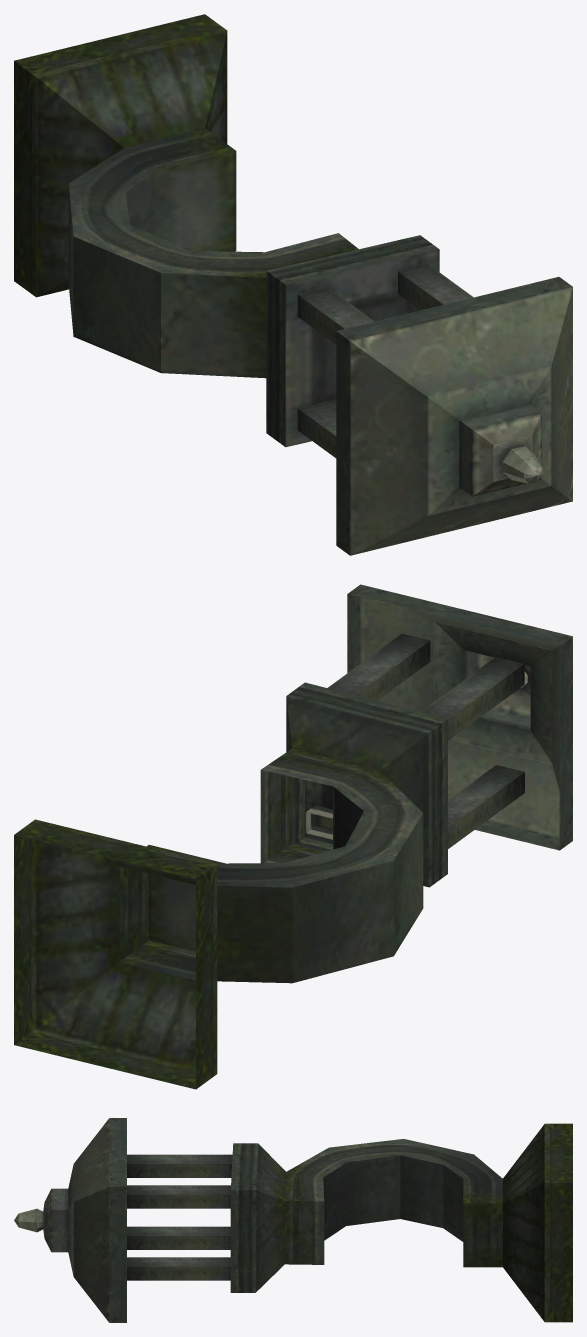
Rendered from dongfang_yewai_shideng_02.obj.
3 views of the same model, one above another, from view 1: azimuth 30°, elevation 25°; view 2: azimuth 150°, elevation 25°; view 3: azimuth 270°, elevation 25° (orthographic). The views are drawn at different scales.
Parts seen in each view (by area): view 1: dongfang_yewai_shideng_02; view 2: dongfang_yewai_shideng_02; view 3: dongfang_yewai_shideng_02.
Part boxes in pixels (left/top/right/bottom): dongfang_yewai_shideng_02: left=14, top=14, right=572, bottom=555; dongfang_yewai_shideng_02: left=14, top=584, right=572, bottom=1089; dongfang_yewai_shideng_02: left=14, top=1118, right=572, bottom=1322.
Size of the model in its own units: 41.67 by 32.84 by 119.
1 material, 1 textured.
